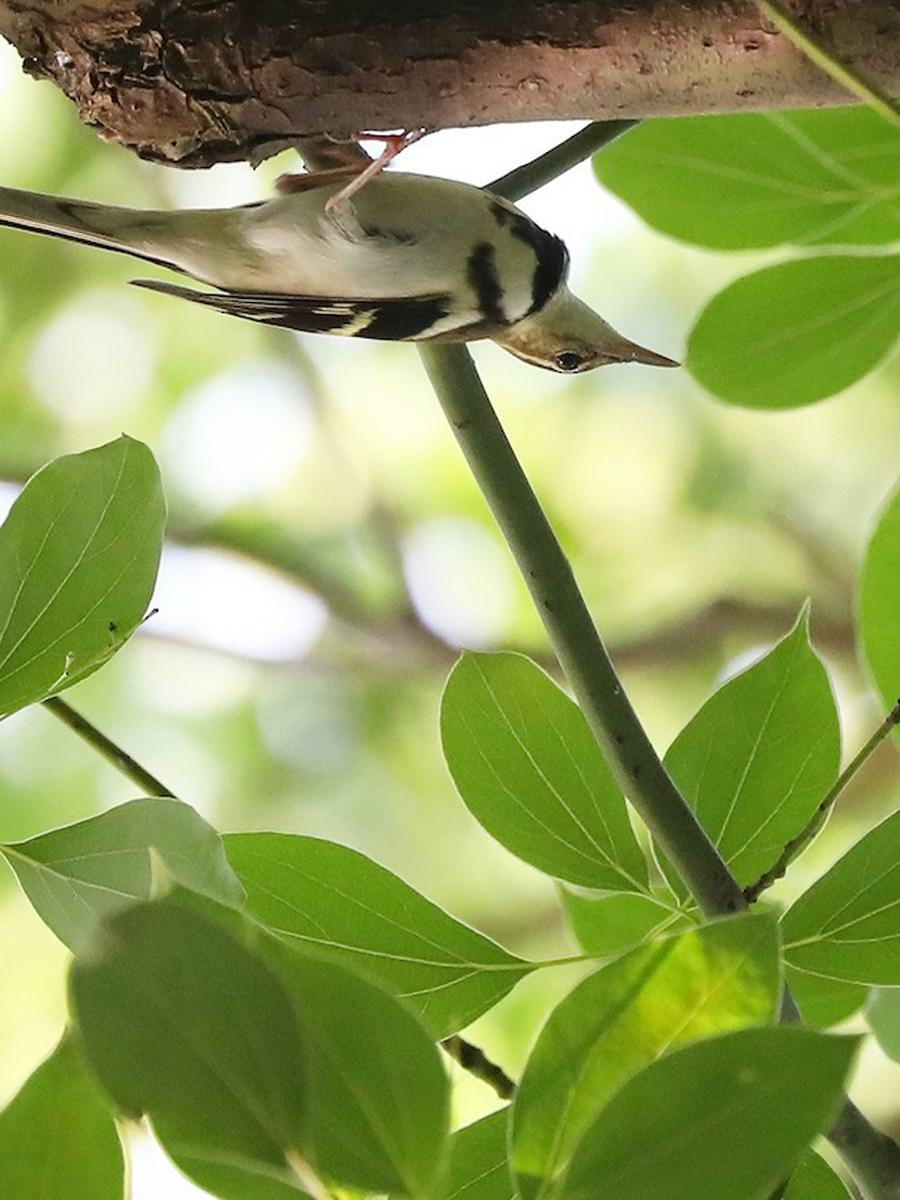wagtail: (37, 143, 705, 404)
